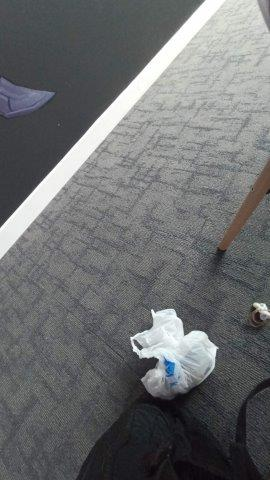plastik: (131, 310, 217, 398)
